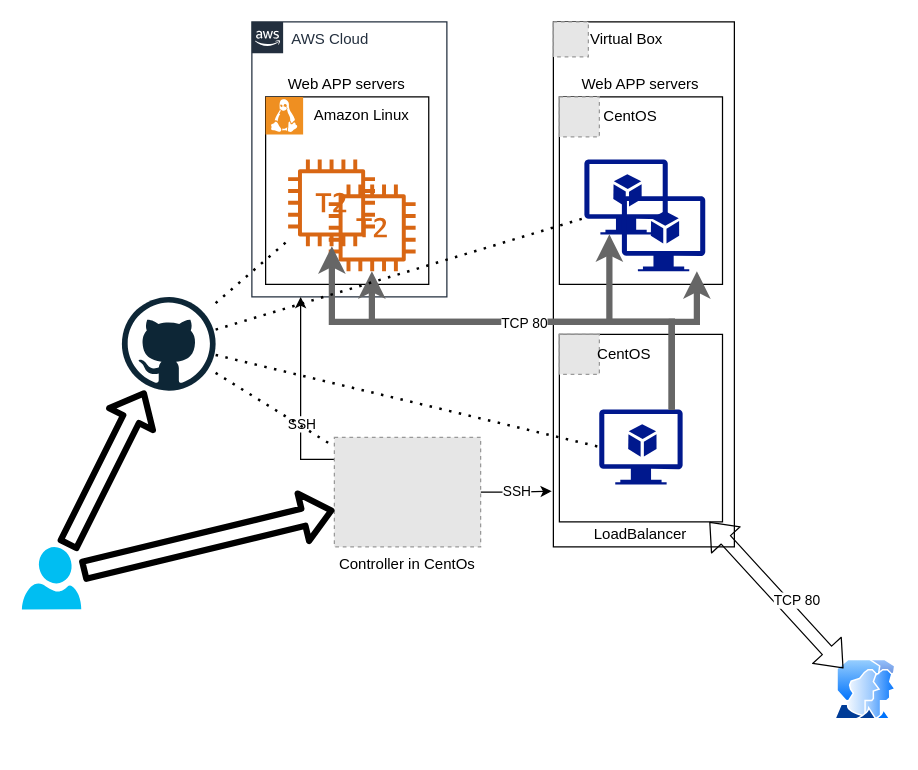
The diagram is 918 pixels wide and 770 high, and some of its shapes have lost their labels. Grey dashed boxes stand in for pictures. The shapes that lost their labels are listed below. From the top down, each one's centre as x and y in pixels, then its label:
At pixel 51 577: "Dev".
At pixel 865 689: "Users".
